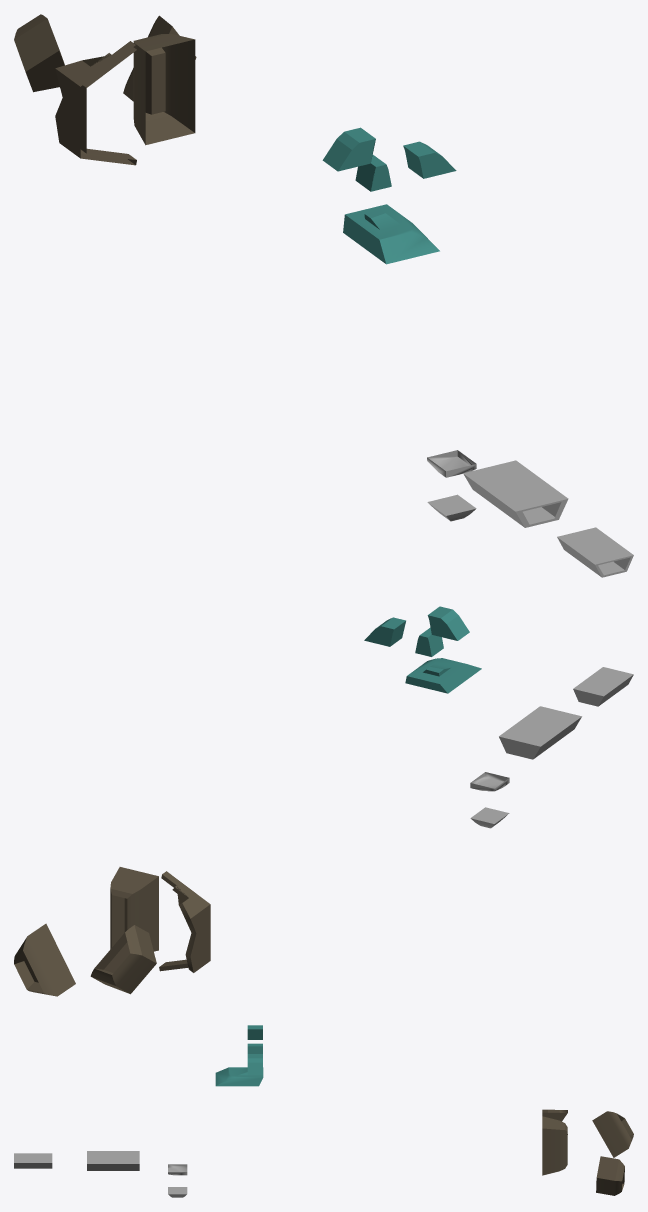
Rendered from DestroyedAllyCS.fbx.
The picture shows the model from 3 angles, top to bottom: view 1: azimuth 30°, elevation 25°; view 2: azimuth 150°, elevation 25°; view 3: azimuth 270°, elevation 25°; orthographic projection. The views are drawn at different scales.
Parts seen in each view (by area): view 1: polySurface48, polySurface40, polySurface44, polySurface33, polySurface46, polySurface38, polySurface35, polySurface37, polySurface43, polySurface36, polySurface42; view 2: polySurface48, polySurface49, polySurface46, polySurface40, polySurface44, polySurface33, polySurface38, polySurface35, polySurface37, polySurface36, polySurface43; view 3: polySurface48, polySurface46, polySurface40, polySurface49, polySurface33, polySurface38, polySurface37.
Boxes of the visible parts, x1,y1,x2,y2 form: polySurface48: [133, 34, 195, 145]; polySurface40: [463, 460, 568, 527]; polySurface44: [55, 41, 136, 165]; polySurface33: [343, 204, 439, 264]; polySurface46: [14, 14, 64, 92]; polySurface38: [557, 527, 633, 577]; polySurface35: [322, 127, 375, 171]; polySurface37: [403, 141, 456, 178]; polySurface43: [427, 450, 476, 477]; polySurface36: [355, 154, 391, 191]; polySurface42: [427, 494, 476, 521]; polySurface48: [110, 867, 158, 951]; polySurface49: [14, 923, 75, 996]; polySurface46: [90, 925, 156, 994]; polySurface40: [499, 706, 581, 759]; polySurface44: [159, 871, 210, 972]; polySurface33: [405, 658, 481, 693]; polySurface38: [573, 667, 633, 706]; polySurface35: [427, 606, 469, 640]; polySurface37: [364, 617, 405, 646]; polySurface36: [415, 627, 443, 656]; polySurface43: [470, 772, 509, 791]; polySurface48: [542, 1116, 567, 1175]; polySurface46: [592, 1111, 633, 1157]; polySurface40: [87, 1151, 139, 1170]; polySurface49: [596, 1156, 624, 1195]; polySurface33: [215, 1067, 263, 1086]; polySurface38: [14, 1153, 52, 1168]; polySurface37: [247, 1054, 262, 1075].
Bounding box in the file's own units: 266 × 396 × 1350.
